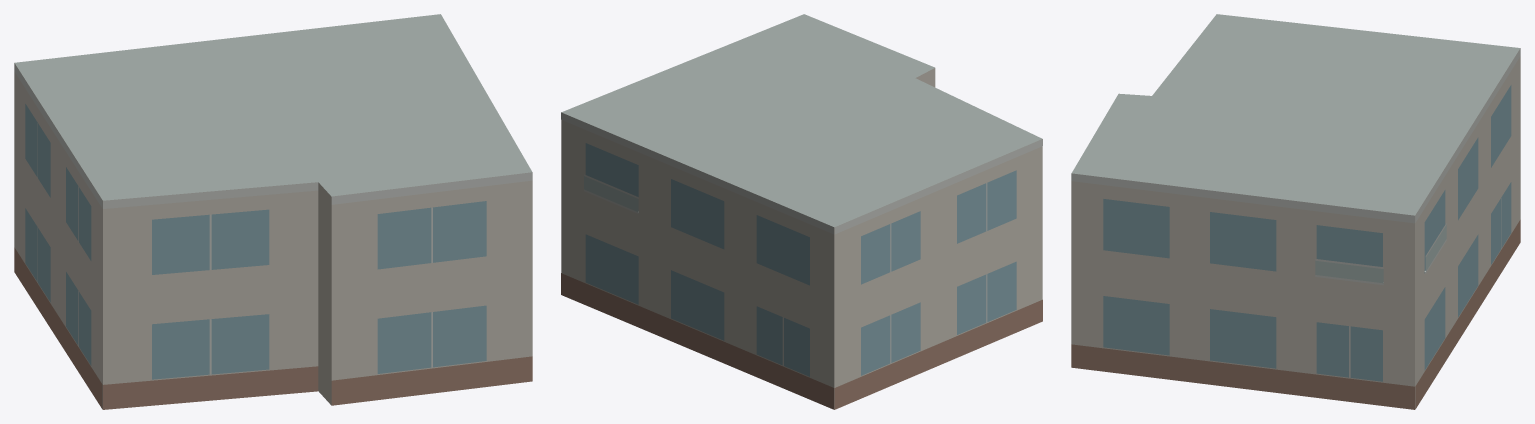
The model's file is survey-upis-33041760.glb.
3 renders of one model, left to right at view 1: azimuth 30°, elevation 25°; view 2: azimuth 150°, elevation 25°; view 3: azimuth 270°, elevation 25°, orthographic. The views are drawn at different scales.
Parts seen in each view (by area): view 1: survey-upis-33041760.tmp; view 2: survey-upis-33041760.tmp; view 3: survey-upis-33041760.tmp.
Boxes of the visible parts, box(x1,y1,x2,y2) form: survey-upis-33041760.tmp: box(14, 14, 532, 409); survey-upis-33041760.tmp: box(561, 14, 1042, 409); survey-upis-33041760.tmp: box(1071, 14, 1520, 409).
Bounding box in the file's own units: 13.59 × 6.1 × 12.79.
